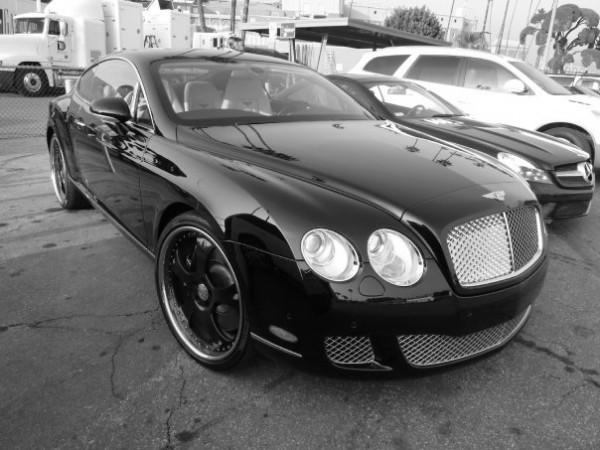car: (47, 52, 549, 373)
